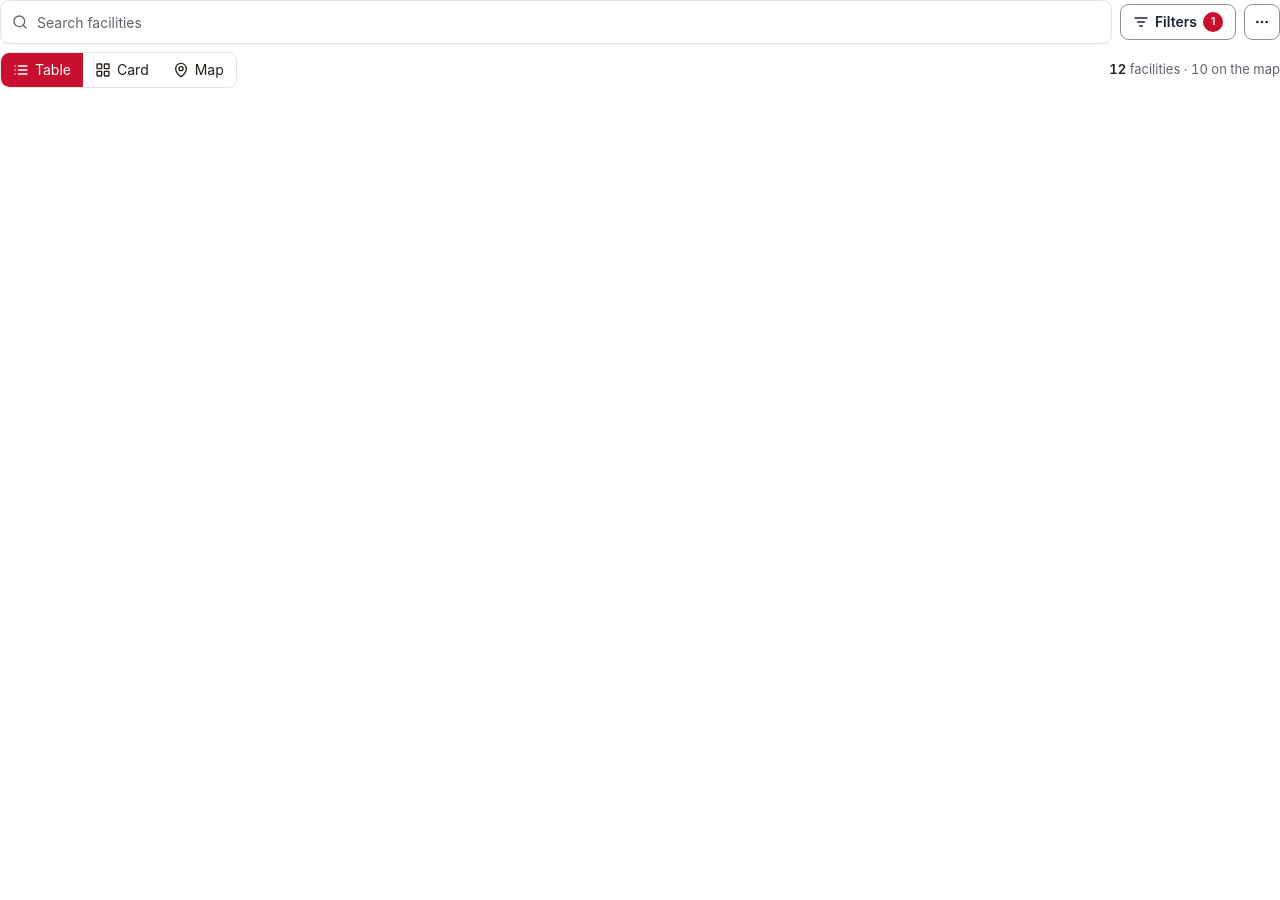
Test: Facilities toolbar › phones: a Filters button opens the selects in a sheet
Click the button with test id "facilities-filters-button" at (1178, 22), box [1120,4,1236,40]
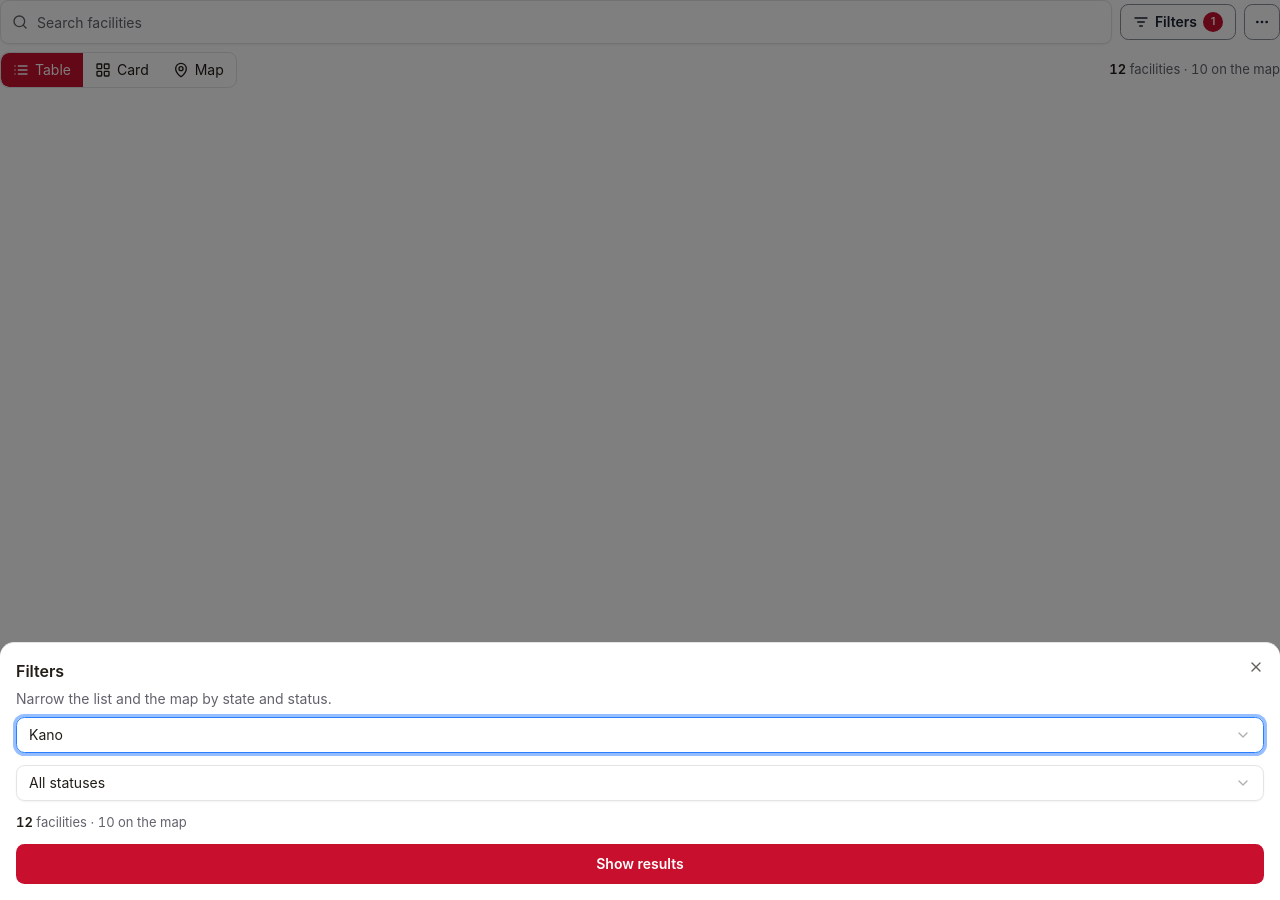
Expected: the dropdown with test id "facilities-state-select" reads "Kano", [16,716,1264,752]
Expected: the dropdown with test id "facilities-status-select" is shown, [16,764,1264,800]
